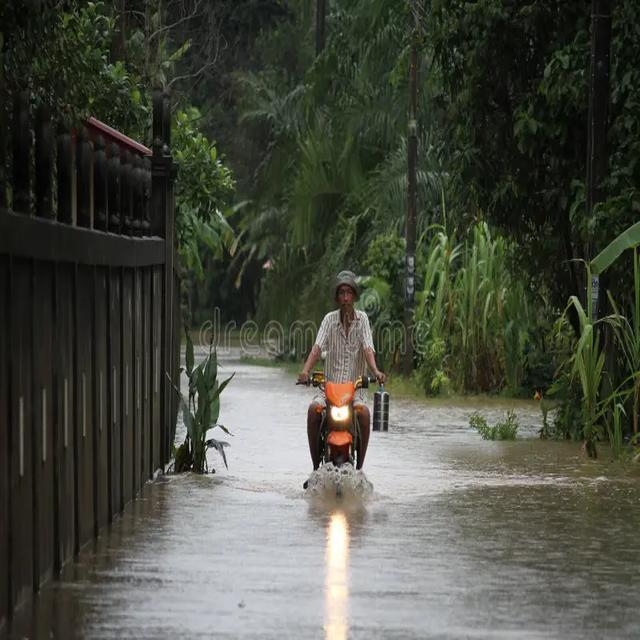Person-RiskLevel2: (286, 255, 396, 505)
